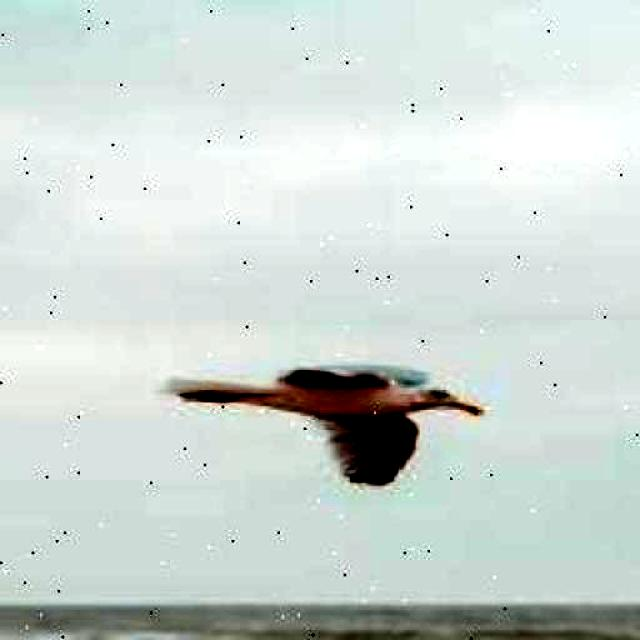airplane: (158, 364, 484, 490)
